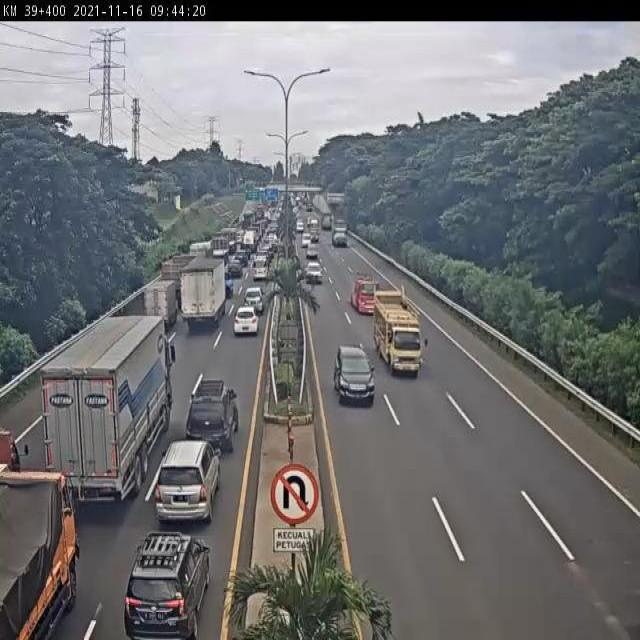car: (129, 521, 201, 631), (157, 435, 221, 521), (191, 368, 236, 444), (336, 346, 376, 406), (351, 272, 379, 316), (232, 303, 265, 336), (238, 287, 266, 305), (305, 260, 324, 284), (251, 260, 268, 281), (227, 258, 241, 282), (306, 244, 321, 260), (310, 227, 320, 245), (297, 220, 305, 235), (302, 235, 309, 244), (310, 219, 317, 225)
small truck: (141, 280, 177, 325), (321, 215, 334, 232)
truck-l-: (43, 316, 176, 500), (331, 220, 350, 252)
truck-m-: (3, 472, 80, 640), (377, 294, 425, 378), (179, 255, 226, 328)
